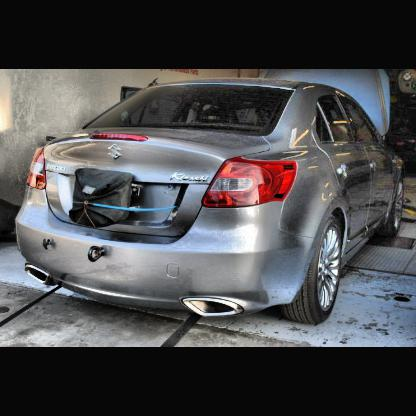Suzuki Kizashi Sedan 2012: (17, 80, 400, 326)
